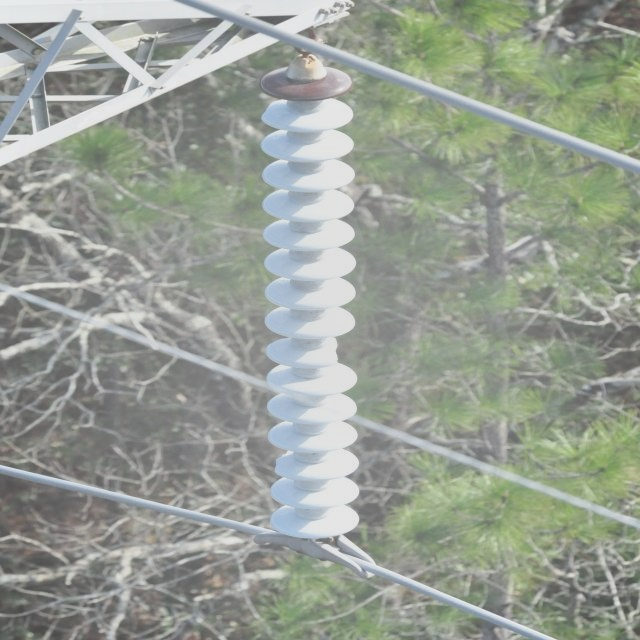broken: (267, 335, 342, 365), (258, 97, 286, 122), (271, 448, 294, 474)
insulator: (246, 67, 363, 540)
